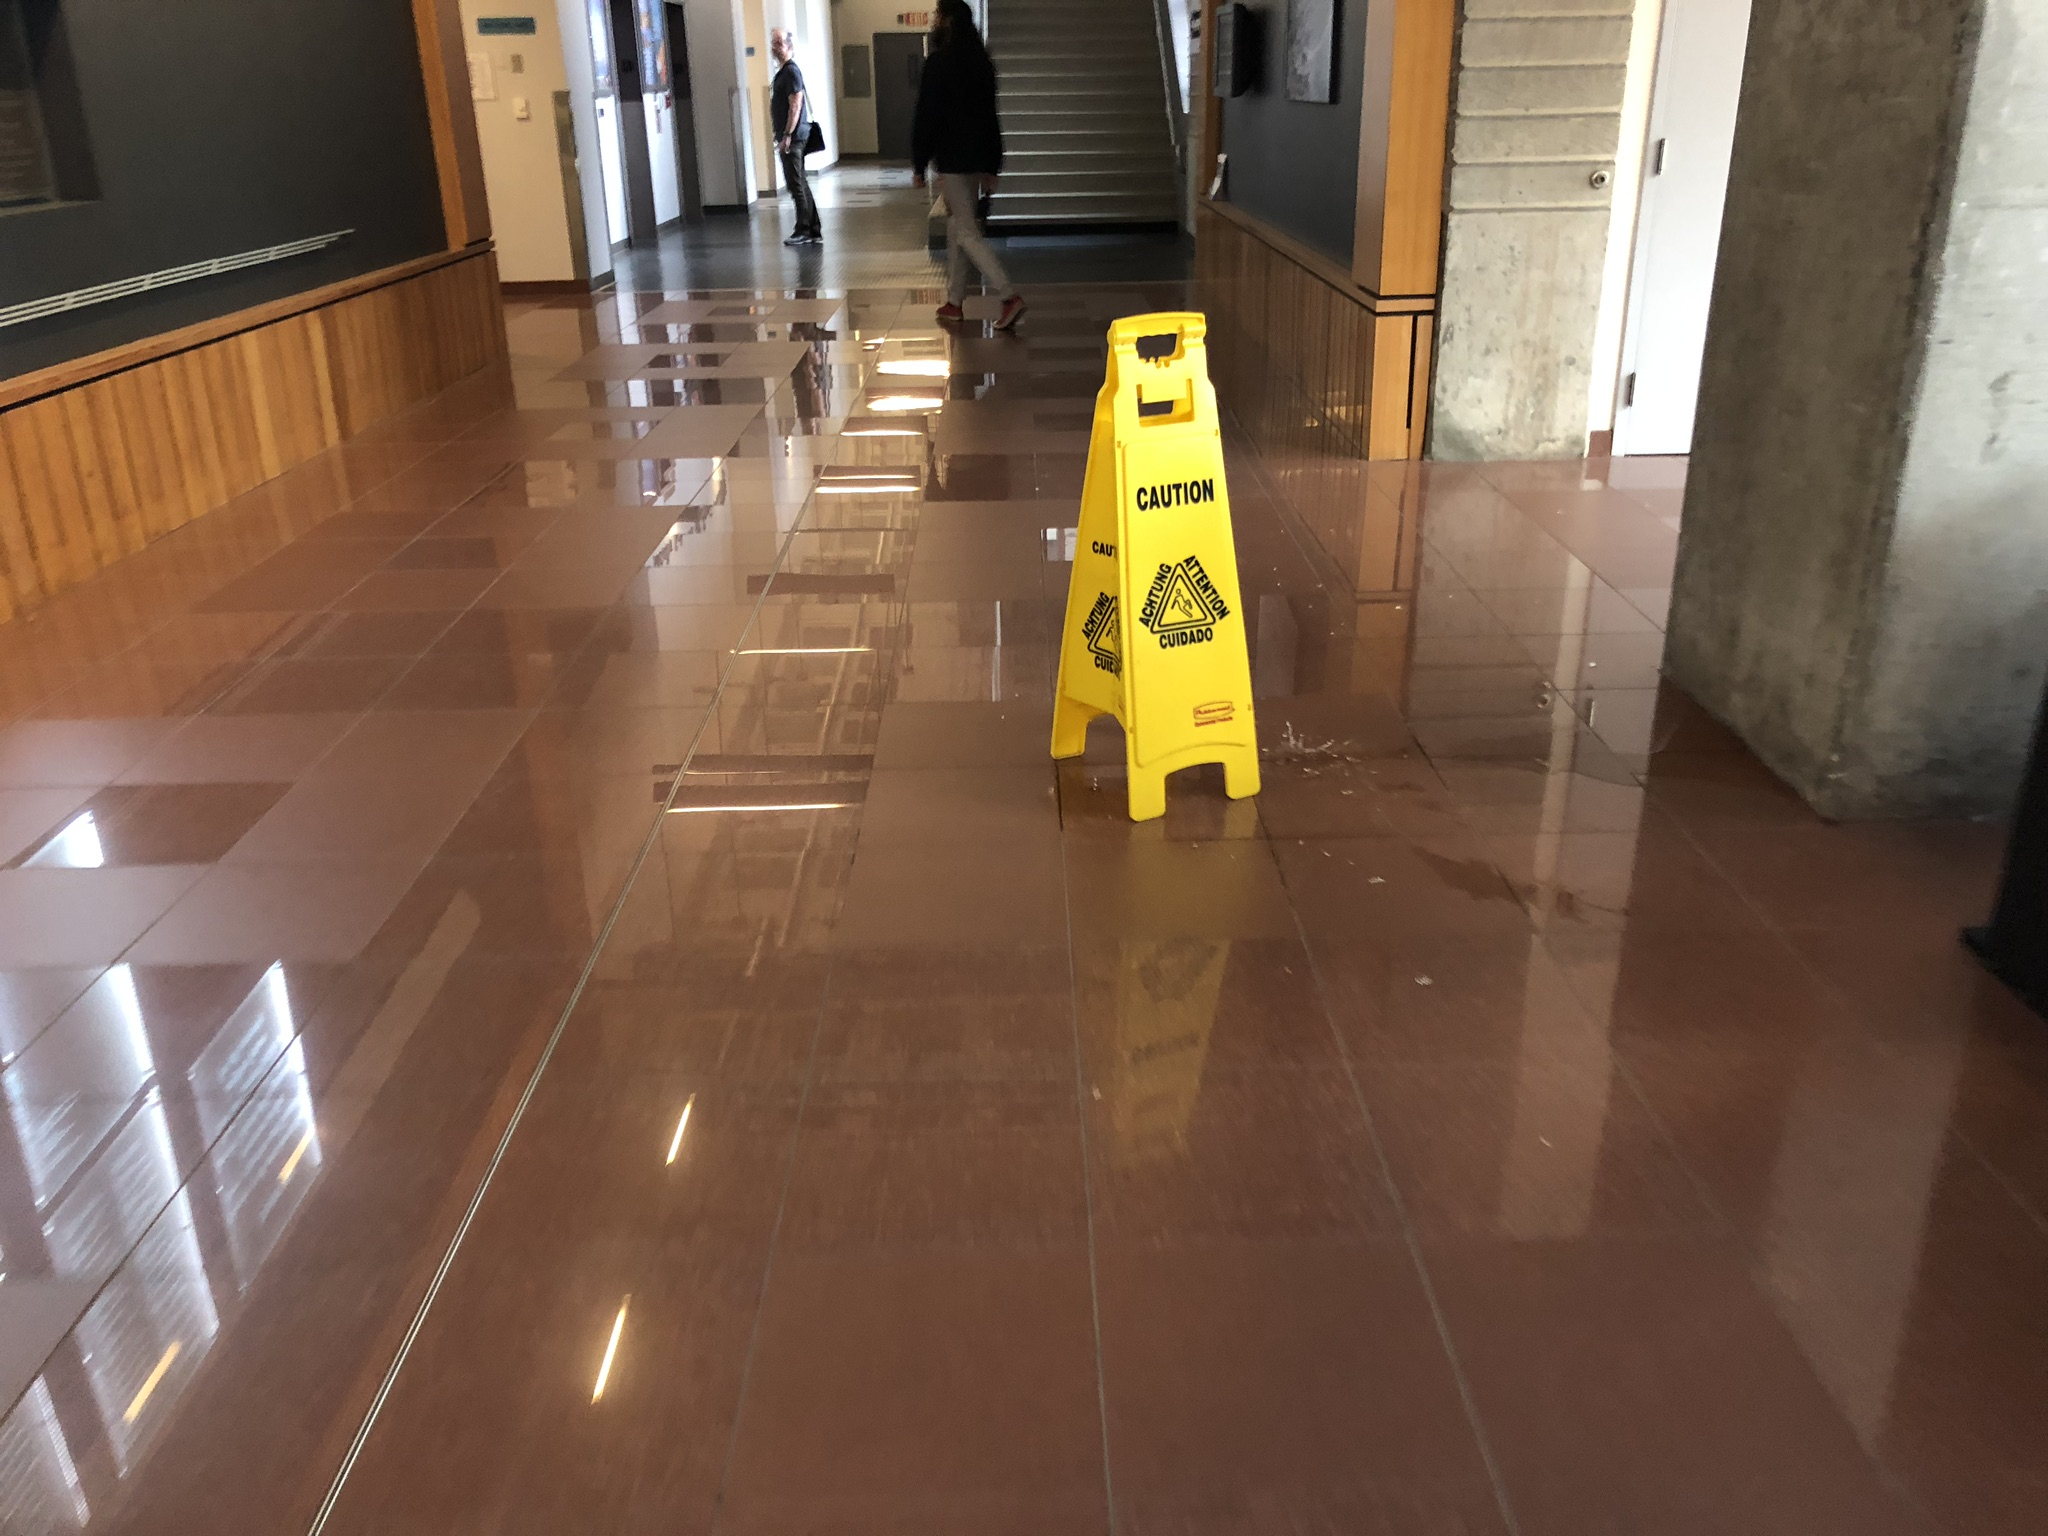Obstacle: (1671, 10, 2045, 816), (3, 3, 506, 600), (1192, 15, 1656, 458), (1043, 311, 1264, 824), (913, 0, 1026, 331), (495, 19, 577, 290)
